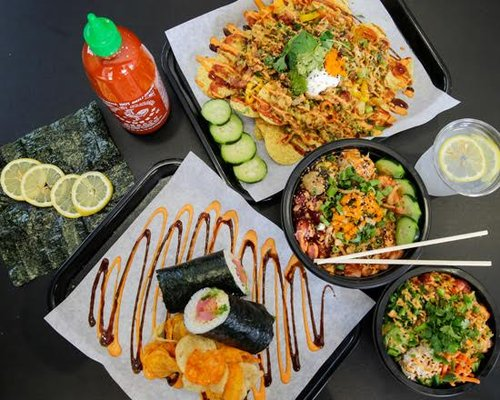salad: (321, 229, 488, 263)
sushi: (281, 139, 431, 289), (374, 270, 497, 398)
